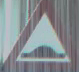Speed Breaker ahead: (6, 3, 69, 63)
